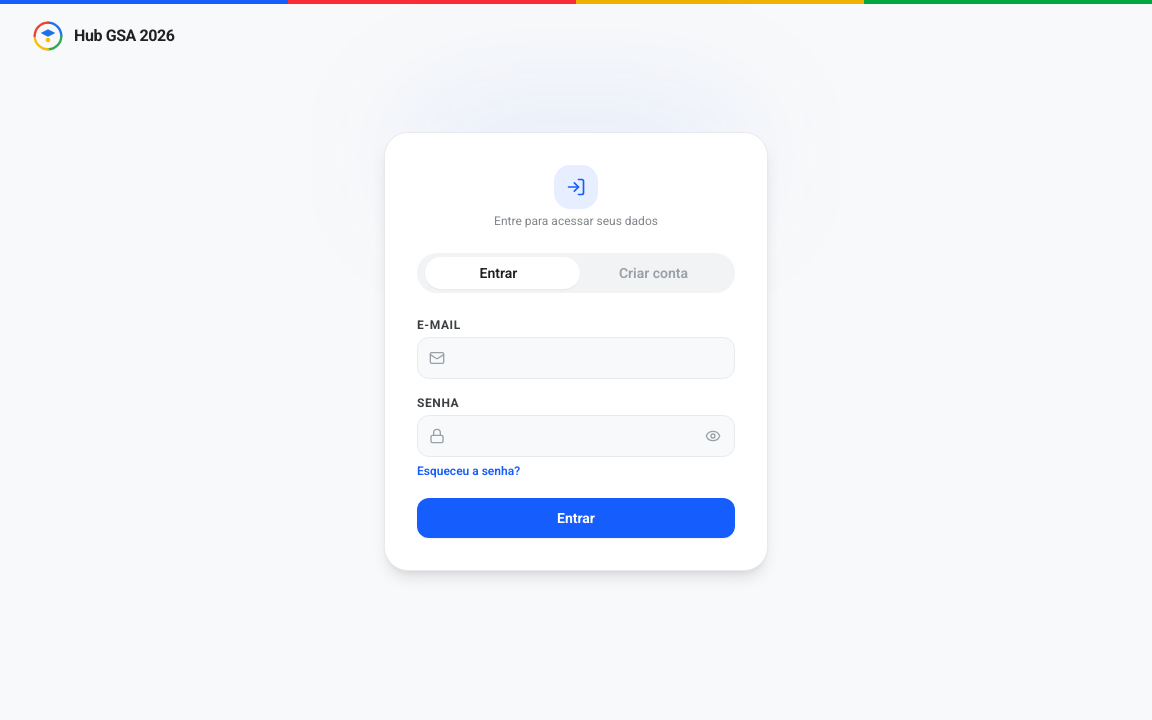
Scenario: AuthScreen › sends a password reset email and shows the confirmation screen
Click the button "Esqueceu a senha?" at (469, 471), box [417,463,520,479]
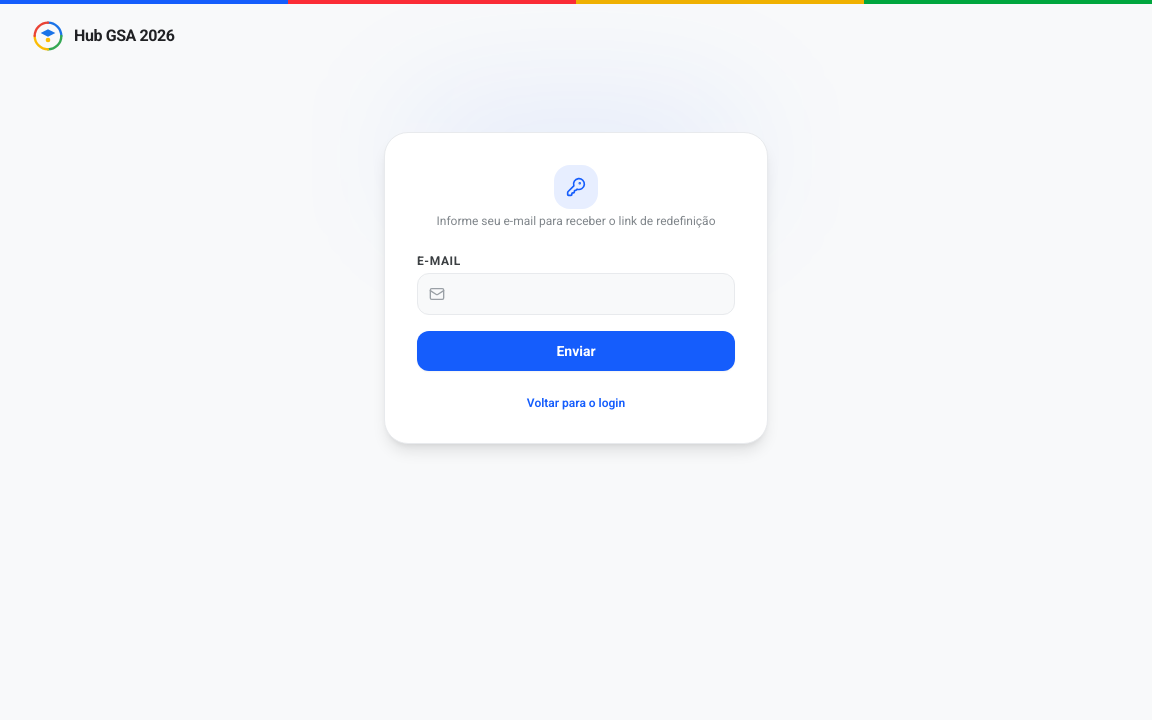
Type "ana@example.com" into the field labelled "E-mail" at (576, 294), box [417,273,735,315]
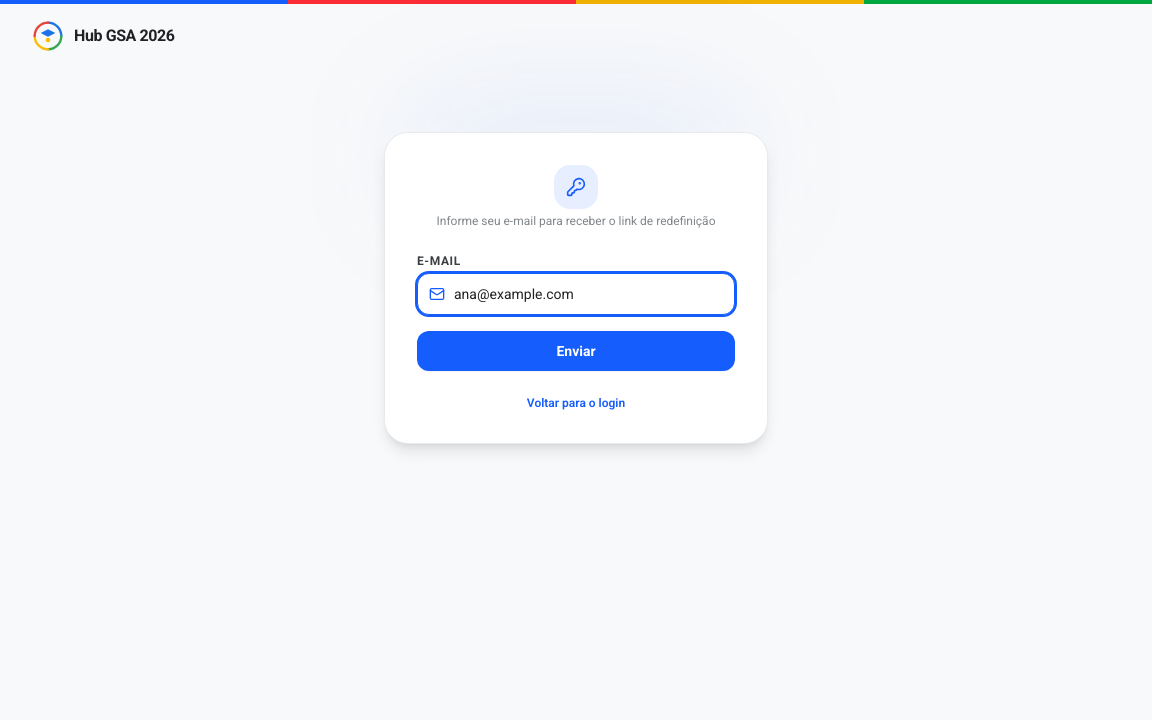
Click the button "Enviar" at (576, 351), box [417,331,735,371]
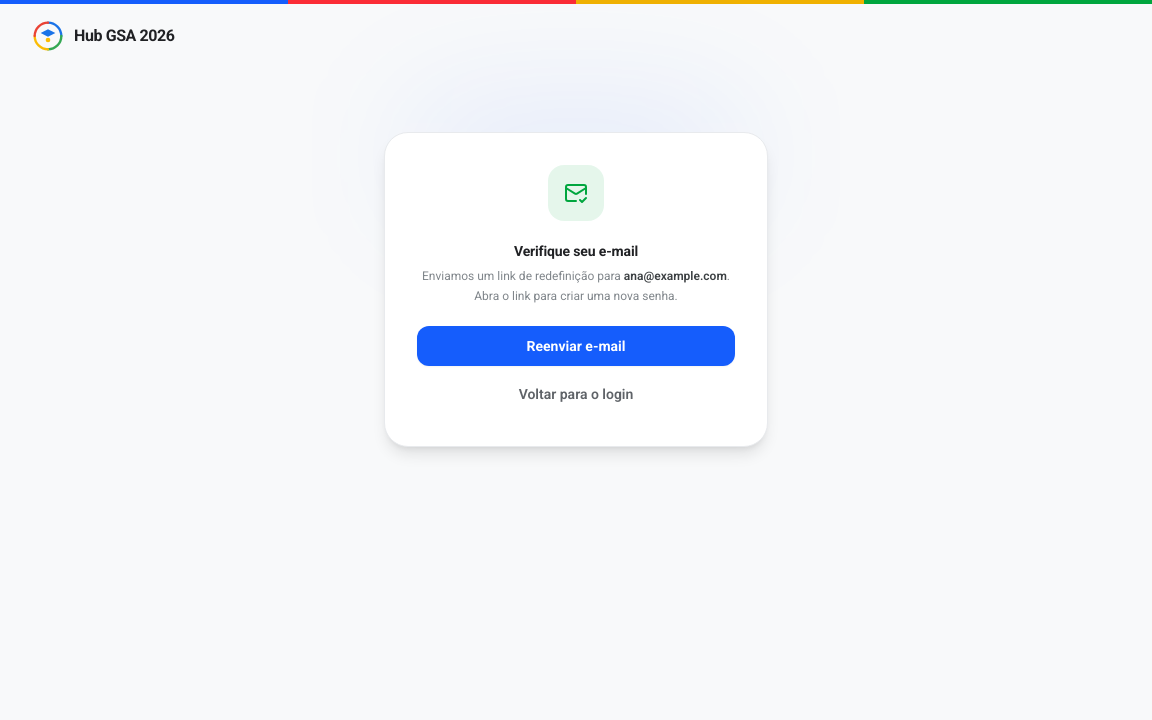
Check: the heading "Verifique seu e-mail" is shown, box [514,243,638,259]
